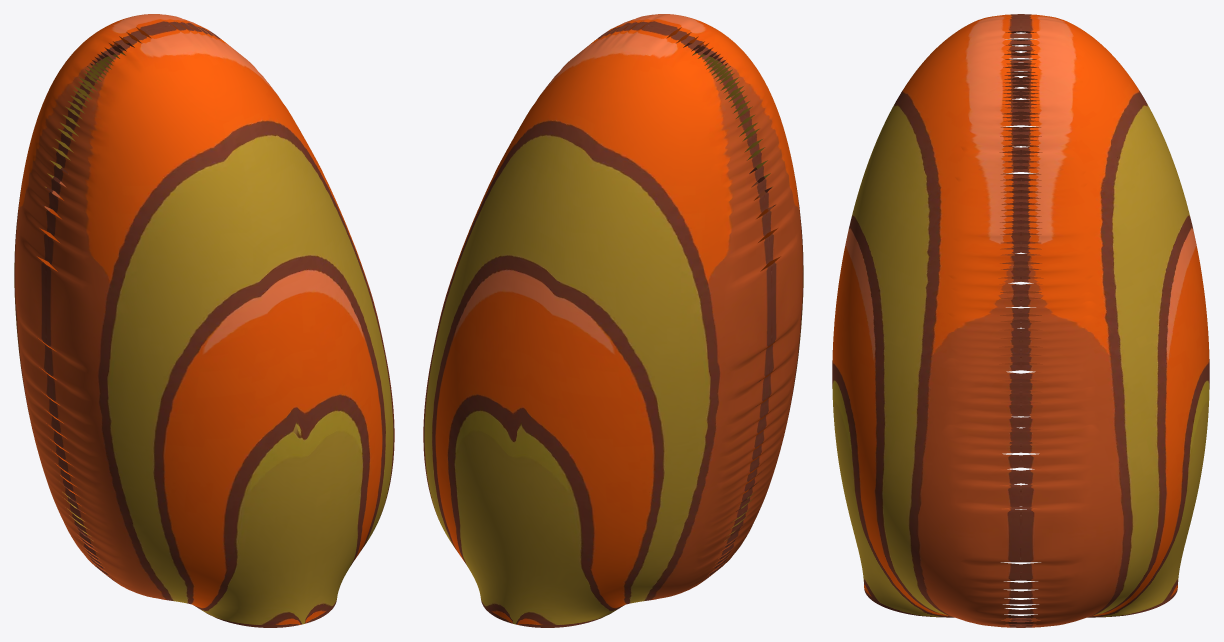
Rendered from orange_oval_stone.glb.
The picture shows the model from 3 angles, left to right: view 1: azimuth 30°, elevation 25°; view 2: azimuth 150°, elevation 25°; view 3: azimuth 270°, elevation 25°; orthographic projection. The views are drawn at different scales.
Visible parts, largest first — view 1: orange_oval_stone; view 2: orange_oval_stone; view 3: orange_oval_stone.
Part boxes in pixels (bbox=[...]): orange_oval_stone: bbox=[14, 14, 394, 627]; orange_oval_stone: bbox=[423, 14, 803, 627]; orange_oval_stone: bbox=[832, 14, 1209, 627].
Bounding box in the file's own units: 0.9819 × 1.63 × 1.04.
Materials: 1 (1 with a texture image).
